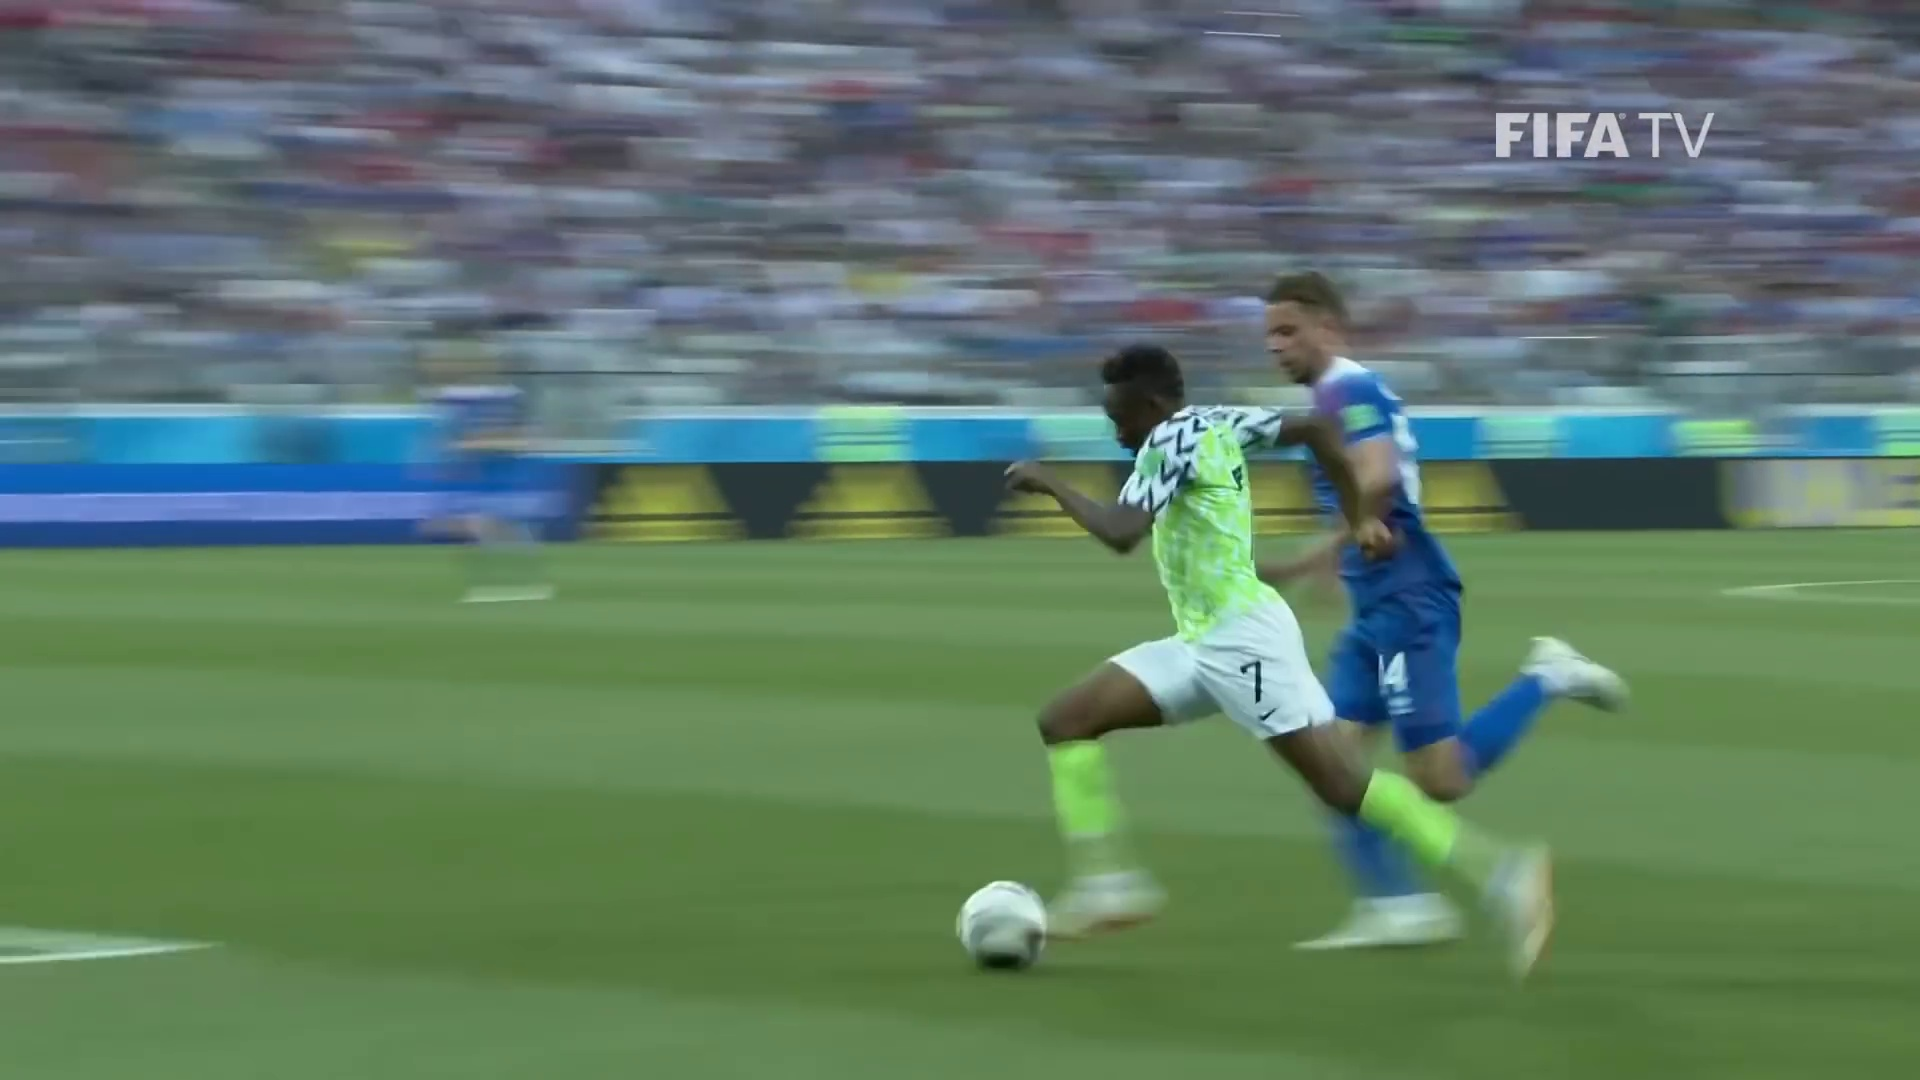ball: (959, 880, 1048, 959)
person: (1018, 347, 1569, 961), (1263, 269, 1630, 951)
